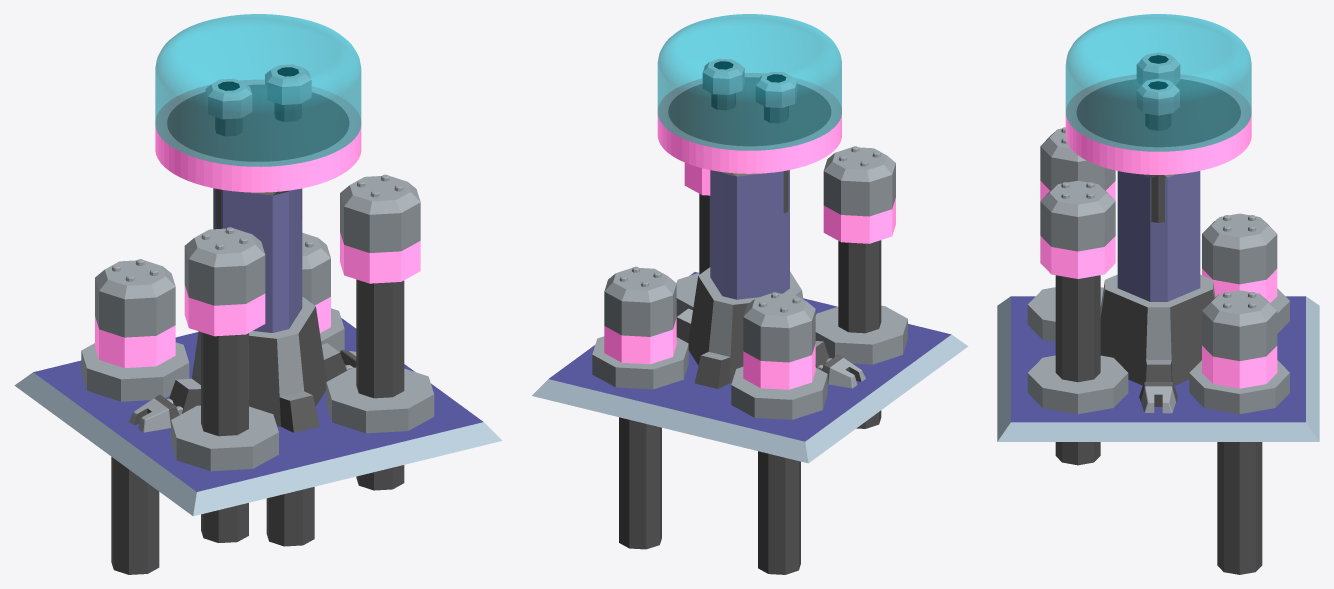
The model's file is 81_Haarvester_ALPHA8.fbx.
3 views of the same model, side by side, from view 1: azimuth 30°, elevation 25°; view 2: azimuth 150°, elevation 25°; view 3: azimuth 270°, elevation 25° (orthographic). The views are drawn at different scales.
Parts seen in each view (by area): view 1: pCylinder46, foundation_harvester8, harv8, pump2, pump3, pump4, pCylinder42, pCylinder43, pump1, pCylinder44, pump5, pump12 (+2 smaller); view 2: pCylinder46, foundation_harvester8, harv8, pump1, pump4, pump3, pCylinder43, pCylinder44, pCylinder41, pump5, pump12, pump2 (+2 smaller); view 3: pCylinder46, foundation_harvester8, harv8, pump1, pump2, pump4, pCylinder42, pCylinder41, pump3, pump12, pCylinder43, pump5 (+2 smaller).
Boxes of the visible parts, left/top/right/bottom form: pCylinder46: left=155, top=14, right=361, bottom=192; foundation_harvester8: left=14, top=318, right=502, bottom=516; harv8: left=169, top=188, right=346, bottom=432; pump2: left=340, top=176, right=420, bottom=490; pump3: left=184, top=228, right=265, bottom=542; pump4: left=95, top=260, right=175, bottom=574; pCylinder42: left=326, top=367, right=434, bottom=433; pCylinder43: left=171, top=405, right=278, bottom=471; pump1: left=266, top=232, right=330, bottom=546; pCylinder44: left=81, top=342, right=189, bottom=401; pump5: left=205, top=78, right=252, bottom=228; pump12: left=265, top=64, right=311, bottom=219; pCylinder46: left=657, top=14, right=841, bottom=173; foundation_harvester8: left=532, top=272, right=968, bottom=463; harv8: left=676, top=170, right=829, bottom=388; pump1: left=604, top=268, right=676, bottom=549; pump4: left=743, top=293, right=815, bottom=574; pump3: left=823, top=147, right=895, bottom=428; pCylinder43: left=815, top=305, right=907, bottom=364; pCylinder44: left=731, top=367, right=827, bottom=419; pCylinder41: left=592, top=336, right=688, bottom=389; pump5: left=755, top=71, right=797, bottom=213; pump12: left=702, top=58, right=744, bottom=110; pump2: left=684, top=162, right=710, bottom=274; pCylinder46: left=1065, top=14, right=1251, bottom=174; foundation_harvester8: left=997, top=296, right=1319, bottom=441; harv8: left=1100, top=171, right=1215, bottom=385; pump1: left=1202, top=290, right=1277, bottom=574; pump2: left=1040, top=180, right=1115, bottom=465; pump4: left=1202, top=213, right=1277, bottom=302; pCylinder42: left=1027, top=355, right=1128, bottom=414; pCylinder41: left=1189, top=360, right=1289, bottom=414; pump3: left=1040, top=128, right=1115, bottom=200; pump12: left=1136, top=78, right=1179, bottom=222; pCylinder43: left=1027, top=287, right=1103, bottom=341; pump5: left=1136, top=52, right=1180, bottom=84.
Size of the model in its own units: 2 by 3.32 by 2.
